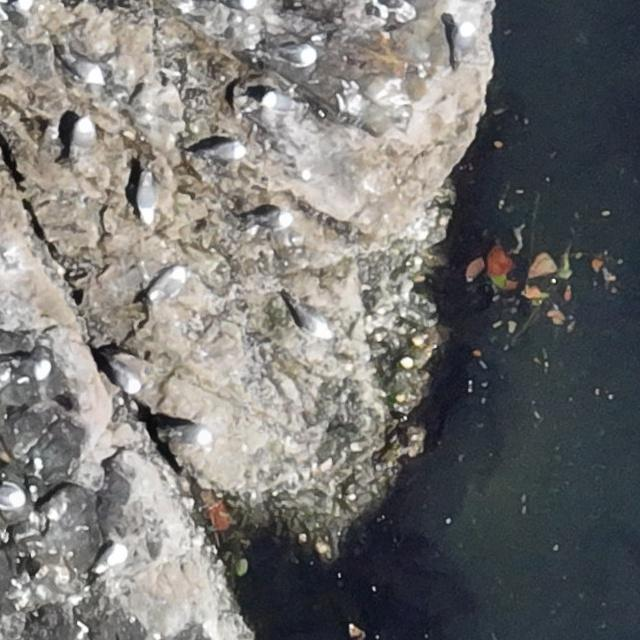umineko: (289, 297, 329, 337), (158, 422, 217, 448), (148, 266, 185, 304), (8, 351, 51, 380), (135, 174, 156, 227), (110, 356, 137, 397), (247, 208, 293, 232), (94, 545, 125, 577), (278, 41, 314, 67), (456, 22, 476, 65), (2, 480, 29, 510), (262, 93, 301, 112), (70, 57, 100, 79), (206, 144, 242, 162), (74, 118, 93, 152), (217, 0, 253, 8)
